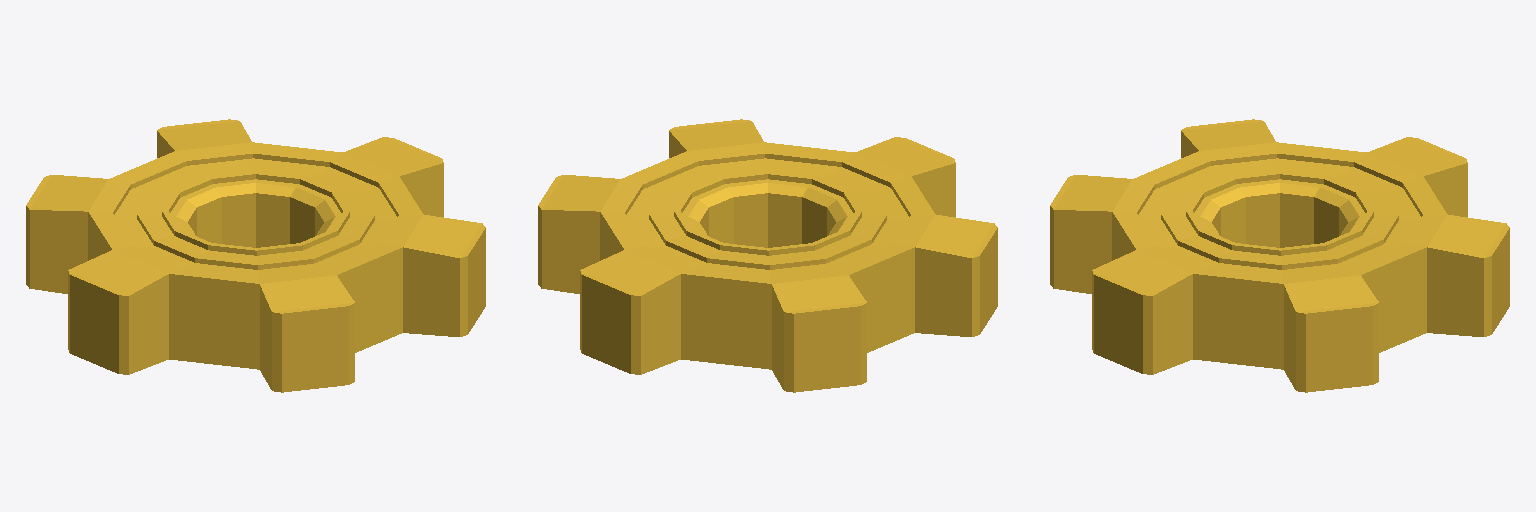
Rendered from ingraGold.obj.
3 views of the same model, side by side, from view 1: azimuth 30°, elevation 25°; view 2: azimuth 150°, elevation 25°; view 3: azimuth 270°, elevation 25° (orthographic).
Visible parts, largest first — view 1: Object.1; view 2: Object.1; view 3: Object.1.
Part boxes in pixels (bbox=[...]): Object.1: bbox=[26, 119, 485, 392]; Object.1: bbox=[538, 119, 997, 392]; Object.1: bbox=[1050, 119, 1509, 392].
Bounding box in the file's own units: 37.33 × 8.1 × 37.33.